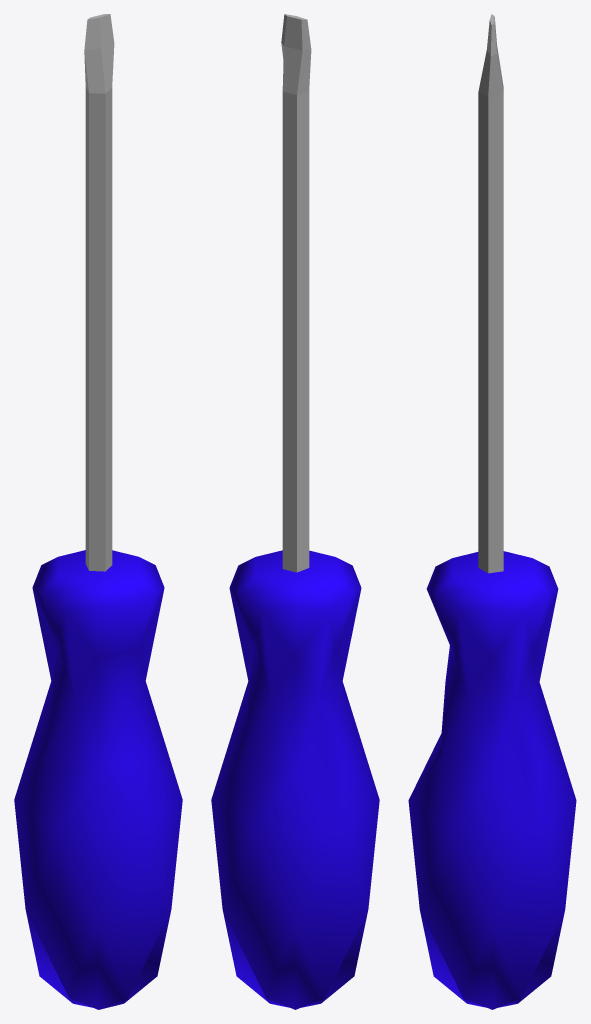
The model's file is BlacCofferWork.fbx.
The picture shows the model from 3 angles, left to right: view 1: azimuth 30°, elevation 25°; view 2: azimuth 150°, elevation 25°; view 3: azimuth 270°, elevation 25°; orthographic projection.
Parts seen in each view (by area): view 1: ScrewDriver_Main; view 2: ScrewDriver_Main; view 3: ScrewDriver_Main.
Part boxes in pixels (<box>): ScrewDriver_Main: <box>14,14,182,1009</box>; ScrewDriver_Main: <box>211,14,379,1009</box>; ScrewDriver_Main: <box>408,14,576,1009</box>.
Bounding box in the file's own units: 36 × 234 × 36.
